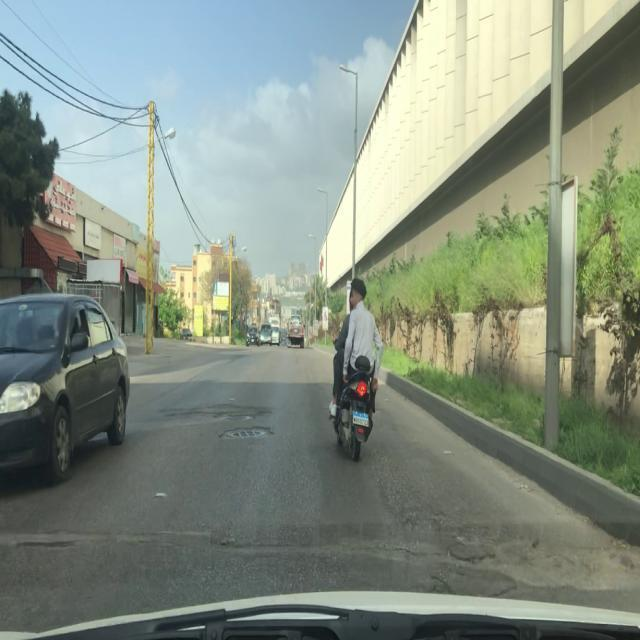pothole: (445, 535, 640, 596)
